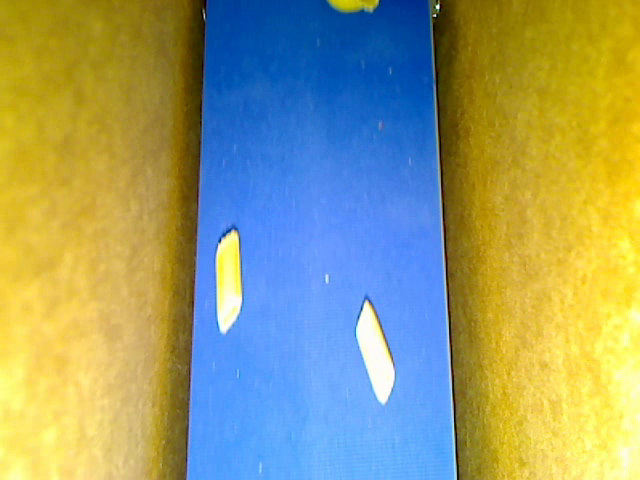penne: (354, 299, 395, 404), (214, 227, 243, 334)
